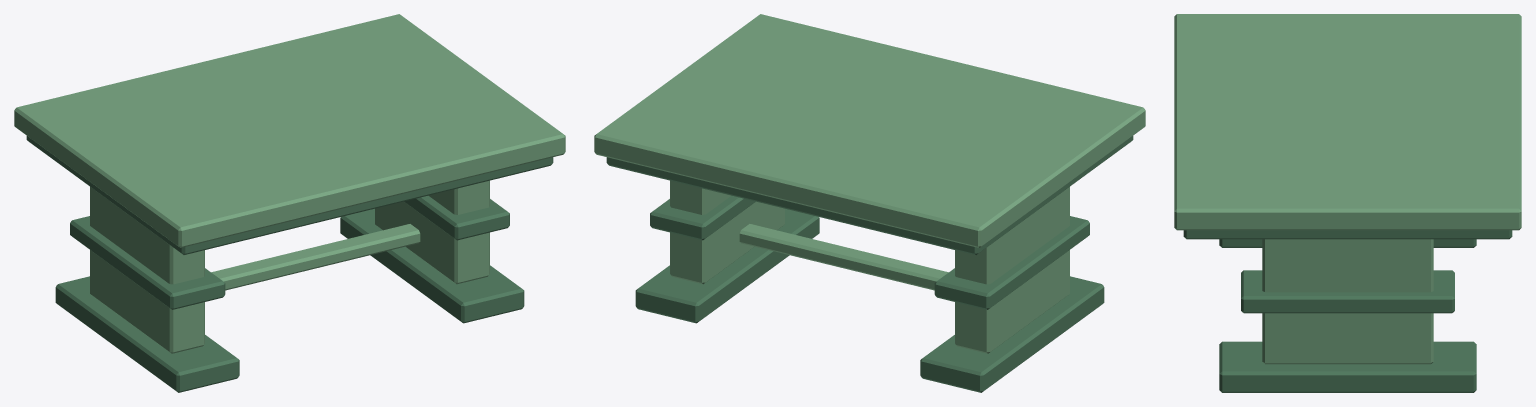
The model's file is green_dungeon_table_v0.glb.
3 views of the same model, side by side, from view 1: azimuth 30°, elevation 25°; view 2: azimuth 150°, elevation 25°; view 3: azimuth 270°, elevation 25° (orthographic). The views are drawn at different scales.
Parts seen in each view (by area): view 1: green_dungeon_table_v0; view 2: green_dungeon_table_v0; view 3: green_dungeon_table_v0.
Part boxes in pixels (<box>): green_dungeon_table_v0: <box>14,14,565,392</box>; green_dungeon_table_v0: <box>594,14,1145,392</box>; green_dungeon_table_v0: <box>1174,14,1521,392</box>.
Size of the model in its own units: 1.96 by 0.9 by 1.46.
